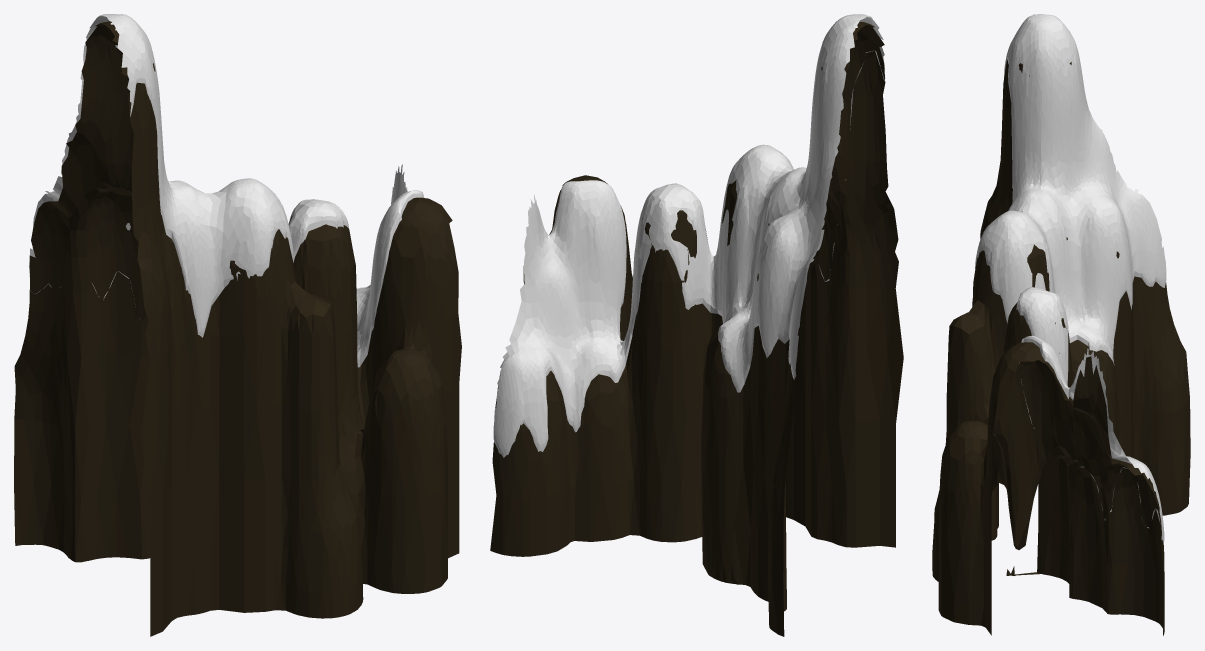
The model's file is Mtn_Corner_SW_M.fbx.
The picture shows the model from 3 angles, left to right: view 1: azimuth 30°, elevation 25°; view 2: azimuth 150°, elevation 25°; view 3: azimuth 270°, elevation 25°; orthographic projection. The views are drawn at different scales.
Parts seen in each view (by area): view 1: Mtn_Corner_SW_M; view 2: Mtn_Corner_SW_M; view 3: Mtn_Corner_SW_M.
Part boxes in pixels (x1,y1,x2,y2): Mtn_Corner_SW_M: (14,14,461,636); Mtn_Corner_SW_M: (490,14,903,636); Mtn_Corner_SW_M: (932,14,1190,635).
Bounding box in the file's own units: 16250 × 27360 × 13026.
